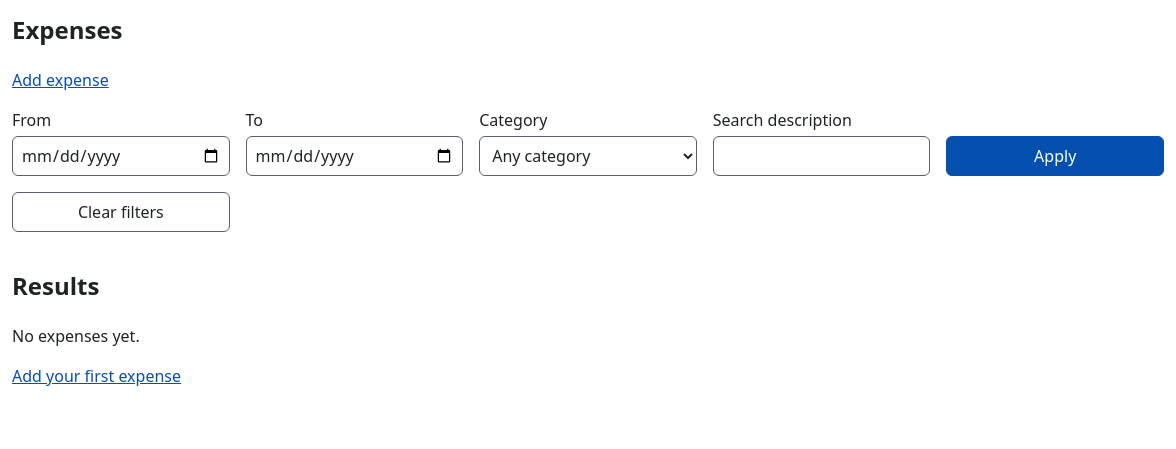
Test: ExpensesView: filters in the page URL › Apply refuses from after to: nothing is pushed or sent, and focus goes to the field
The image size is (1176, 449).
Type "2026-10-02" into the date field with id "filter-from".
click(121, 156); type("2026-10-02")  # box [12, 136, 230, 176]
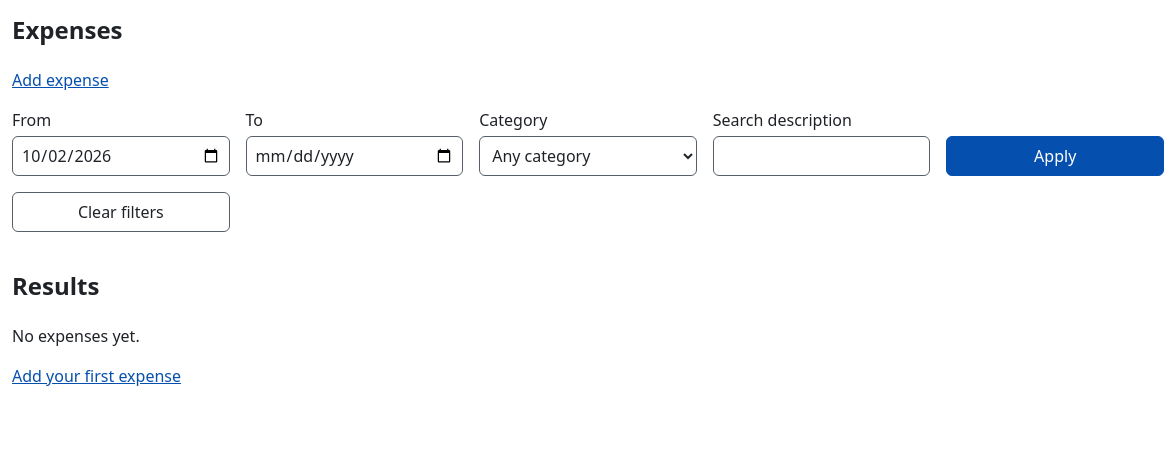
Type "2026-10-01" into the date field with id "filter-to".
click(354, 156); type("2026-10-01")  # box [246, 136, 463, 176]
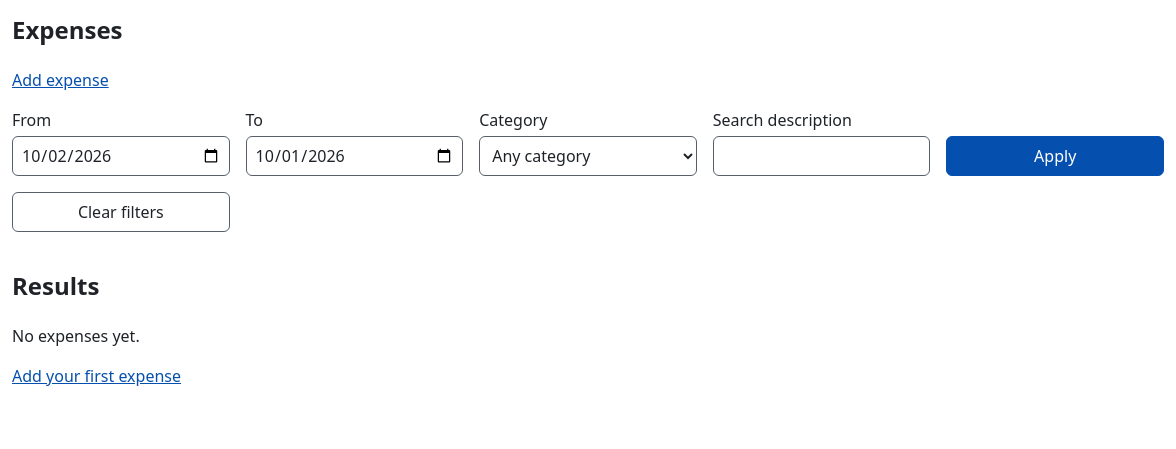
Submit the form, box [12, 108, 1164, 248]
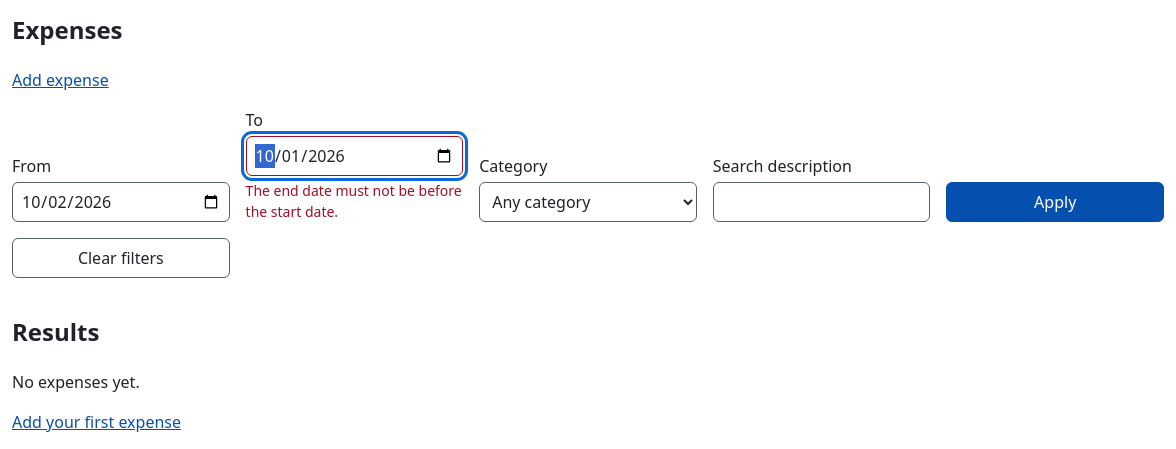
Result: the text with id "filter-to-error" shows "before" at [246, 181, 462, 221]
